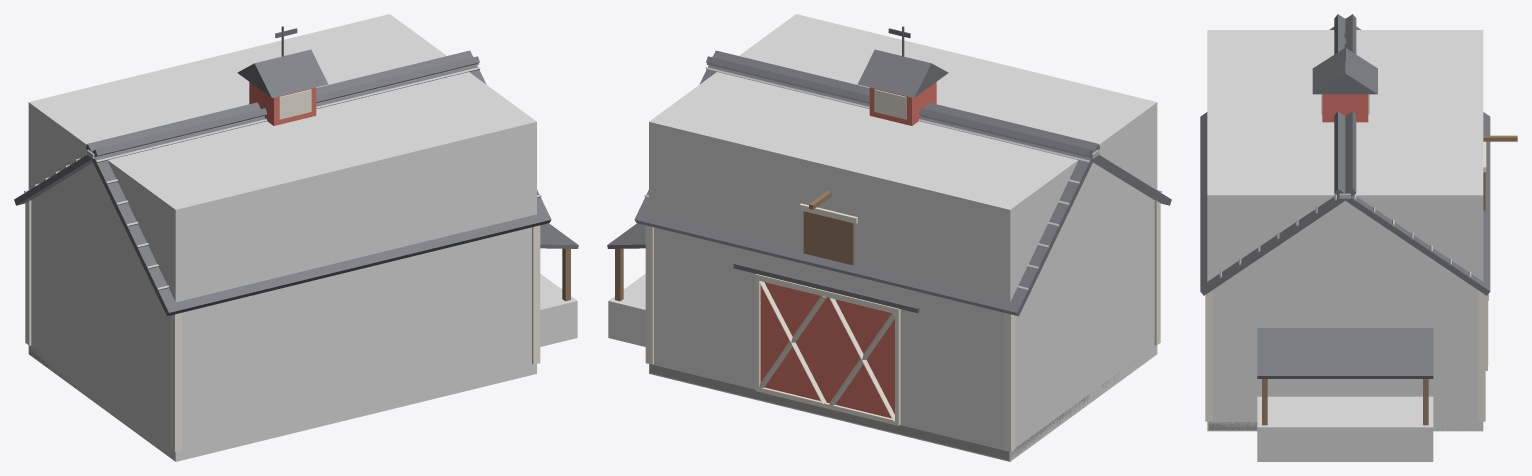
File: Warehouse.fbx
3 renders of one model, left to right at view 1: azimuth 30°, elevation 25°; view 2: azimuth 150°, elevation 25°; view 3: azimuth 270°, elevation 25°, orthographic. The views are drawn at different scales.
Visible parts, largest first — view 1: COL_Barn, Warehouse_Mesh, COL_Lean; view 2: COL_Barn, Warehouse_Mesh, COL_Lean; view 3: COL_Barn, Warehouse_Mesh, COL_Lean.
Part boxes in pixels (<box>): COL_Barn: <box>28,14,536,461</box>; Warehouse_Mesh: <box>14,26,578,451</box>; COL_Lean: <box>540,273,577,346</box>; COL_Barn: <box>649,14,1157,461</box>; Warehouse_Mesh: <box>607,26,1171,460</box>; COL_Lean: <box>608,273,645,346</box>; COL_Barn: <box>1207,30,1483,431</box>; Warehouse_Mesh: <box>1200,14,1517,430</box>; COL_Lean: <box>1257,396,1433,461</box>.
Size of the model in its own units: 12.48 by 9.1 by 8.29.
